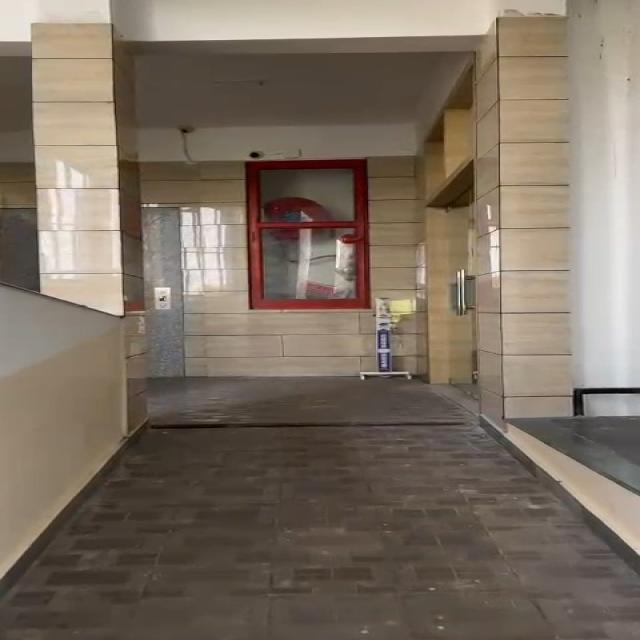floor: (123, 389, 494, 640)
wall: (371, 0, 640, 386), (0, 0, 252, 408)
